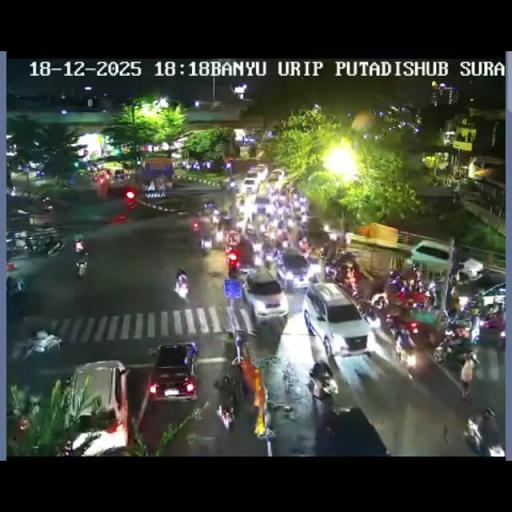Car: (64, 361, 131, 455), (302, 282, 372, 357), (147, 342, 199, 402), (242, 268, 290, 322), (409, 239, 452, 280), (274, 248, 312, 290), (301, 214, 332, 246), (141, 158, 174, 188), (250, 194, 272, 222), (218, 212, 235, 234), (250, 162, 268, 180), (242, 176, 260, 193), (244, 219, 258, 237), (268, 168, 285, 182), (114, 169, 124, 180)
Motorcycle: (434, 328, 478, 370), (385, 311, 424, 353), (8, 388, 42, 434), (12, 329, 62, 358), (310, 360, 338, 398), (462, 414, 484, 452), (479, 306, 506, 336), (363, 326, 384, 360), (215, 396, 235, 431), (359, 299, 381, 328), (342, 267, 362, 298), (452, 266, 482, 285), (430, 278, 448, 308), (175, 277, 192, 308), (445, 285, 462, 316), (385, 273, 407, 296), (324, 256, 345, 280), (261, 238, 279, 266), (220, 329, 236, 358), (6, 276, 26, 298), (466, 290, 484, 314), (198, 226, 212, 254), (46, 238, 66, 256), (408, 275, 426, 294), (340, 250, 358, 268), (75, 254, 88, 278), (226, 254, 239, 278), (24, 236, 39, 255), (250, 246, 264, 266), (318, 243, 333, 261), (235, 194, 247, 214), (298, 236, 310, 255), (74, 236, 86, 254), (297, 194, 308, 212), (146, 344, 160, 358), (6, 235, 18, 251), (214, 226, 224, 244), (210, 207, 220, 224), (280, 234, 290, 249), (298, 210, 308, 225), (286, 216, 296, 230), (190, 219, 200, 233), (227, 178, 237, 190), (328, 231, 338, 242), (43, 203, 53, 213)
